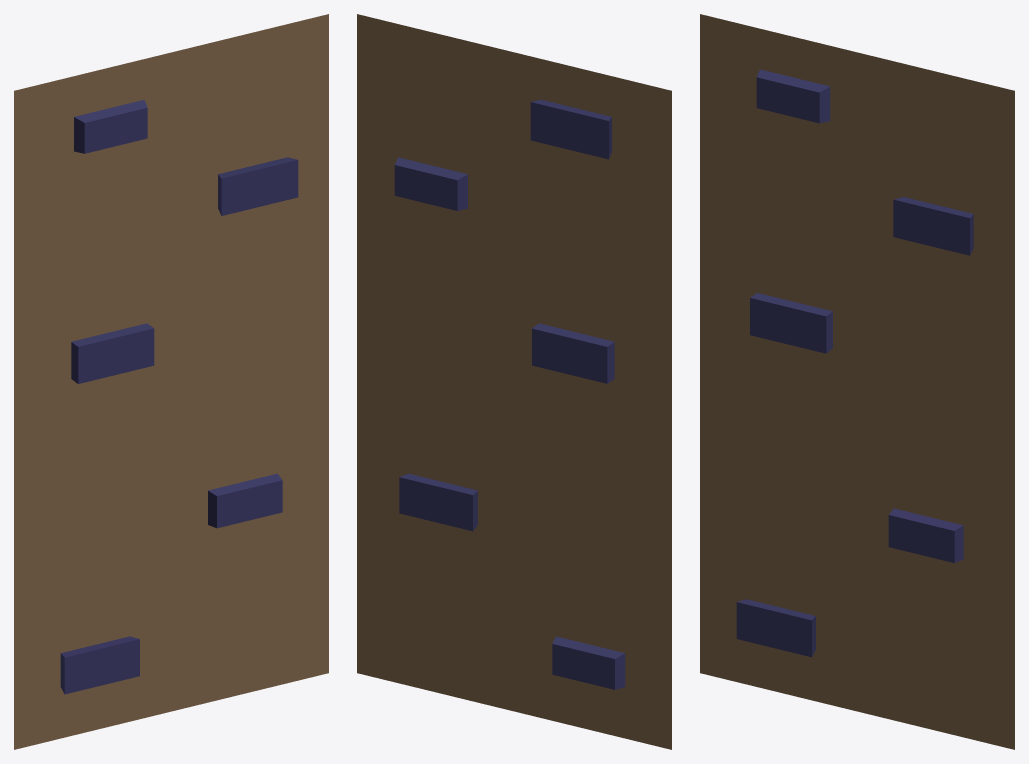
File: Wall2x1.fbx
3 views of the same model, side by side, from view 1: azimuth 30°, elevation 25°; view 2: azimuth 150°, elevation 25°; view 3: azimuth 330°, elevation 25° (orthographic).
Parts seen in each view (by area): view 1: Plane; view 2: Plane; view 3: Plane.
Boxes of the visible parts, x1,y1,x2,y2 form: Plane: (14, 14, 328, 749); Plane: (357, 14, 671, 749); Plane: (700, 14, 1014, 749).
Bounding box in the file's own units: 200 × 400 × 15.53.
